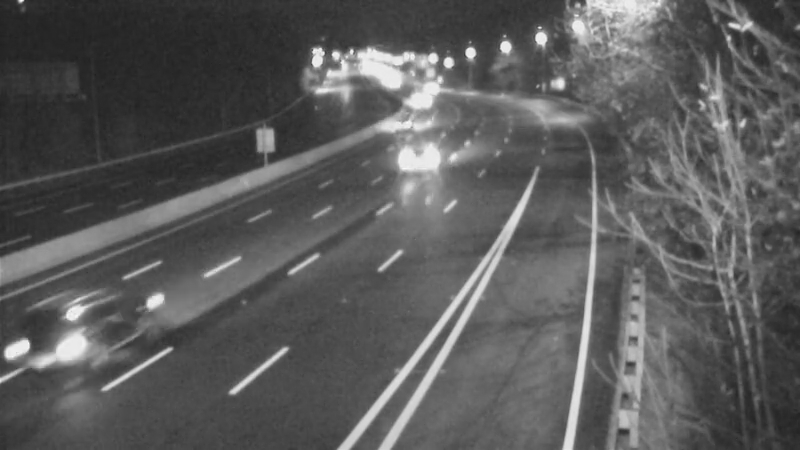vehicle: (12, 272, 122, 382), (385, 118, 465, 198), (390, 75, 440, 125), (374, 105, 424, 155)
